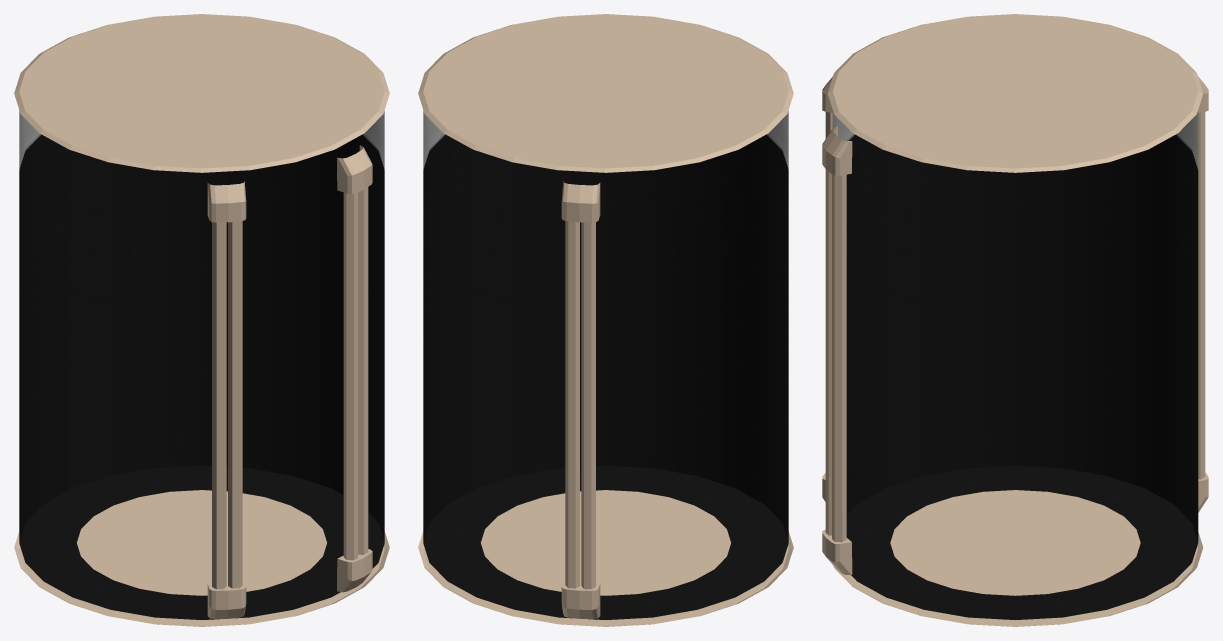
File: mol_iva_small_tube.obj
The picture shows the model from 3 angles, left to right: view 1: azimuth 30°, elevation 25°; view 2: azimuth 150°, elevation 25°; view 3: azimuth 270°, elevation 25°; orthographic projection.
Visible parts, largest first — view 1: i1, im1; view 2: i1, im1; view 3: i1, im1.
Part boxes in pixels (left/top/right/bottom): i1: left=19, top=111, right=384, bottom=619; im1: left=14, top=14, right=389, bottom=626; i1: left=423, top=111, right=788, bottom=619; im1: left=418, top=14, right=793, bottom=626; i1: left=832, top=110, right=1198, bottom=619; im1: left=822, top=14, right=1208, bottom=626.
Bounding box in the file's own units: 0.9376 × 1.26 × 0.9638.
